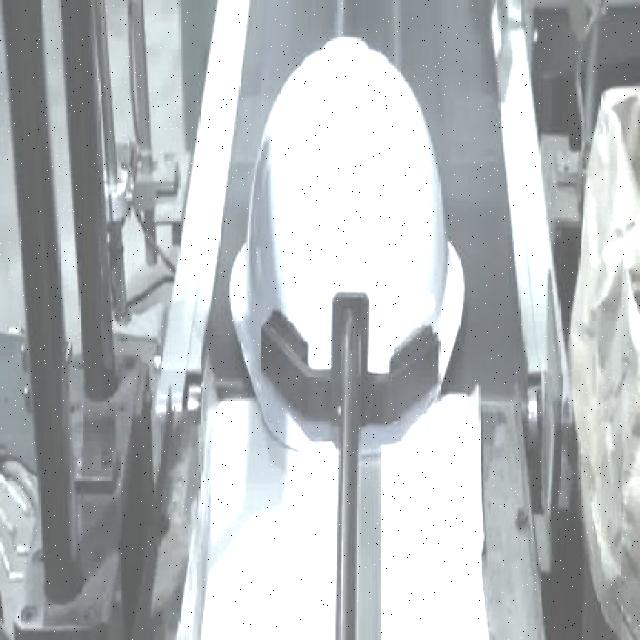Helmet: (226, 29, 464, 466)
